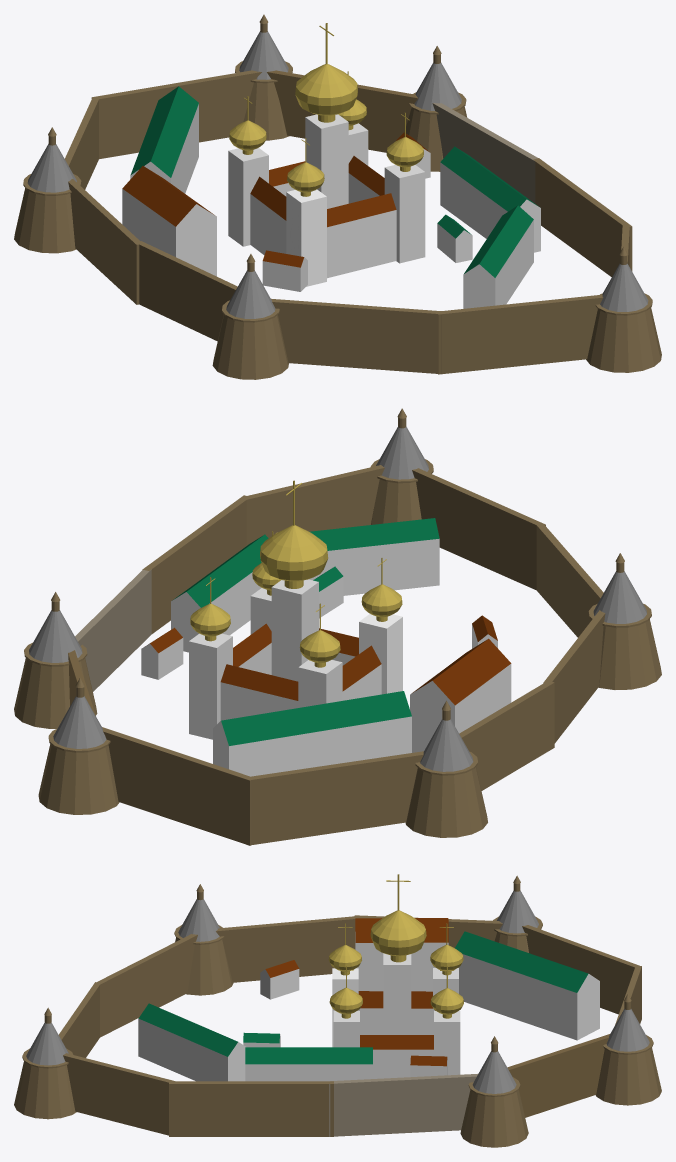
3 views of the same model, one above another, from view 1: azimuth 30°, elevation 25°; view 2: azimuth 150°, elevation 25°; view 3: azimuth 270°, elevation 25° (orthographic). The views are drawn at different scales.
Parts seen in each view (by area): view 1: Cube.007, Cube.008, Cube.003, Cube.025, Circle.003, Cube, Circle.004, Cube.006, Circle.002, Cube.019, Cube.020, Cube.013 (+21 smaller); view 2: Cube.021, Cube.004, Cube.003, Cube.008, Cube.020, Circle.002, Circle.001, Cube.009, Cube.025, Cube.005, Circle.003, Circle (+20 smaller); view 3: Cube.021, Cube, Cube.001, Cube.006, Cube.009, Cube.020, Cube.007, Cube.002, Circle, Circle.001, Cube.019, Circle.004 (+22 smaller).
Part boxes in pixels (x1=…): Cube.007: x1=271, y1=298, x2=442, y2=373; Cube.008: x1=438, y1=294, x2=603, y2=374; Cube.003: x1=91, y1=70, x2=261, y2=159; Cube.025: x1=122, y1=166, x2=216, y2=276; Circle.003: x1=212, y1=254, x2=288, y2=379; Cube: x1=533, y1=158, x2=632, y2=276; Circle.004: x1=586, y1=246, x2=661, y2=372; Cube.006: x1=136, y1=241, x2=237, y2=341; Circle.002: x1=14, y1=127, x2=81, y2=253; Cube.019: x1=440, y1=146, x2=540, y2=252; Cube.020: x1=463, y1=205, x2=533, y2=308; Cube.013: x1=327, y1=193, x2=396, y2=278; Cube.021: x1=213, y1=691, x2=411, y2=776; Cube.004: x1=247, y1=751, x2=423, y2=845; Cube.003: x1=102, y1=727, x2=251, y2=845; Cube.008: x1=412, y1=468, x2=545, y2=590; Cube.020: x1=309, y1=518, x2=439, y2=595; Circle.002: x1=405, y1=700, x2=487, y2=837; Circle.001: x1=38, y1=678, x2=119, y2=814; Cube.009: x1=243, y1=465, x2=384, y2=545; Cube.025: x1=410, y1=638, x2=511, y2=752; Cube.005: x1=459, y1=682, x2=554, y2=790; Circle.003: x1=588, y1=553, x2=661, y2=689; Circle: x1=14, y1=592, x2=97, y2=728; Cube.021: x1=455, y1=931, x2=599, y2=1040; Cube: x1=169, y1=1081, x2=333, y2=1136; Cube.001: x1=329, y1=1074, x2=477, y2=1136; Cube.006: x1=216, y1=916, x2=359, y2=982; Cube.009: x1=63, y1=1053, x2=175, y2=1135; Cube.020: x1=138, y1=1003, x2=246, y2=1081; Cube.007: x1=94, y1=934, x2=197, y2=1037; Cube.002: x1=507, y1=1034, x2=609, y2=1117; Circle: x1=460, y1=1036, x2=528, y2=1147; Circle.001: x1=595, y1=994, x2=661, y2=1105; Cube.019: x1=245, y1=1047, x2=372, y2=1081; Circle.004: x1=14, y1=1007, x2=76, y2=1119.
Bounding box in the file's own units: 14194 × 6858 × 20523.
